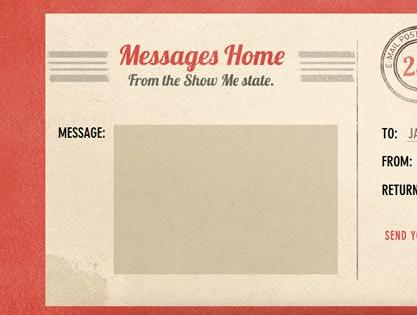field: (111, 122, 338, 276)
